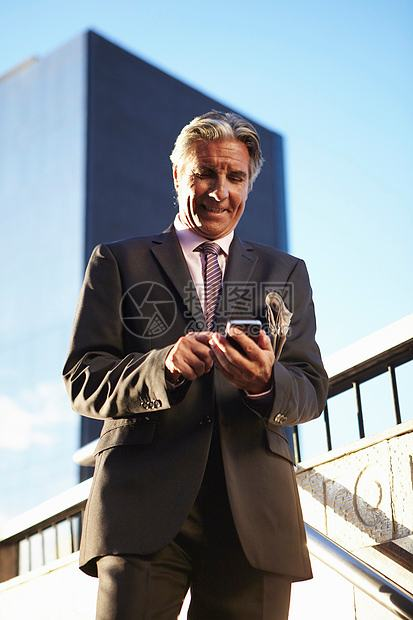reading: (165, 317, 277, 390)
